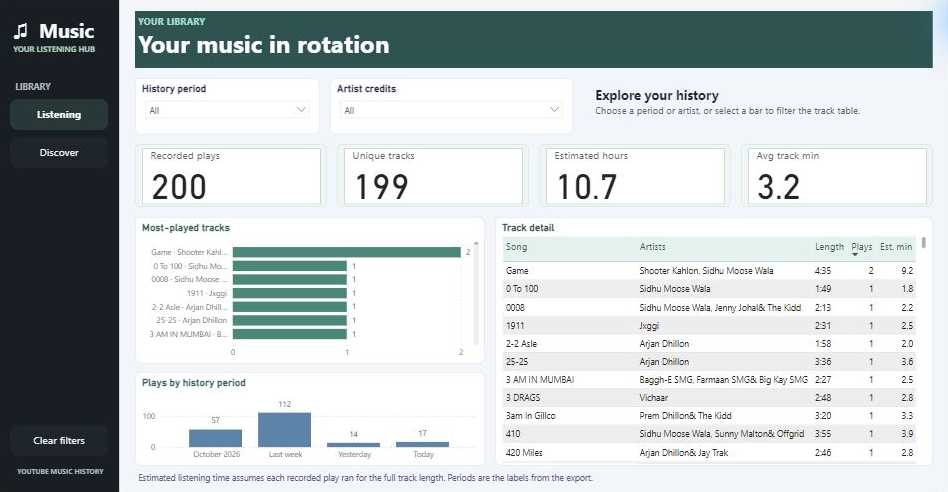

Layout of this report page (visuals, bound fields, positions):
{"tool":"powerbi","page":{"name":"Listening overview","canvas":[1464,760],"ordinal":0},"visuals":[{"type":"textbox","box":[0,0,184,760],"z":0},{"type":"textbox","box":[208,17,1232,88],"z":194},{"type":"textbox","box":[15,20,154,78],"z":215},{"type":"textbox","box":[19,120,146,28],"z":1219},{"type":"slicer","title":"History period","fields":{"Values":["Listening.History period"]},"box":[208,120,285,87],"z":1224},{"type":"slicer","title":"Artist credits","fields":{"Values":["Listening.Artist credits"]},"box":[509,120,375,87],"z":1525},{"type":"textbox","box":[914,128,520,68],"z":2010},{"type":"cardVisual","fields":{"Data":["Listening.Recorded plays"]},"box":[208,222,296,97],"z":2244},{"type":"cardVisual","fields":{"Data":["Listening.Unique tracks"]},"box":[520,222,296,97],"z":2556},{"type":"cardVisual","fields":{"Data":["Listening.Estimated hours"]},"box":[832,222,296,97],"z":2868},{"type":"cardVisual","fields":{"Data":["Listening.Avg track min"]},"box":[1144,222,296,97],"z":3180},{"type":"clusteredBarChart","title":"Most-played tracks","fields":{"Category":["Listening.Track"],"Y":["Listening.Recorded plays"]},"box":[208,335,540,226],"z":3374},{"type":"tableEx","title":"Track detail","fields":{"Values":["Listening.Song","Listening.Artist credits","Listening.Track length","Listening.Recorded plays","Listening.Estimated minutes"]},"box":[764,335,676,384],"z":3930},{"type":"clusteredColumnChart","title":"Plays by history period","fields":{"Category":["Listening.History period"],"Y":["Listening.Recorded plays"]},"box":[208,574,540,145],"z":5764},{"type":"textbox","box":[21,713,144,30],"z":7151},{"type":"textbox","box":[208,725,1232,29],"z":7274},{"type":"actionButton","box":[16,153,152,48],"z":9153},{"type":"actionButton","box":[16,211,152,48],"z":9211},{"type":"actionButton","box":[16,656,152,48],"z":9656}]}

Visuals, with their boxes on the page's 1464x760 design canvas (x1, y1, x2, y2). These are canvas units, not pixel positions in the 948x492 screenshot, which may show the page scaled, cropped or inside an application window:
textbox: bbox=[0, 0, 184, 760]
textbox: bbox=[208, 17, 1440, 105]
textbox: bbox=[15, 20, 169, 98]
textbox: bbox=[19, 120, 165, 148]
"History period" slicer: bbox=[208, 120, 493, 207]
"Artist credits" slicer: bbox=[509, 120, 884, 207]
textbox: bbox=[914, 128, 1434, 196]
cardVisual - Listening.Recorded plays: bbox=[208, 222, 504, 319]
cardVisual - Listening.Unique tracks: bbox=[520, 222, 816, 319]
cardVisual - Listening.Estimated hours: bbox=[832, 222, 1128, 319]
cardVisual - Listening.Avg track min: bbox=[1144, 222, 1440, 319]
"Most-played tracks" clusteredBarChart: bbox=[208, 335, 748, 561]
"Track detail" tableEx: bbox=[764, 335, 1440, 719]
"Plays by history period" clusteredColumnChart: bbox=[208, 574, 748, 719]
textbox: bbox=[21, 713, 165, 743]
textbox: bbox=[208, 725, 1440, 754]
actionButton: bbox=[16, 153, 168, 201]
actionButton: bbox=[16, 211, 168, 259]
actionButton: bbox=[16, 656, 168, 704]
